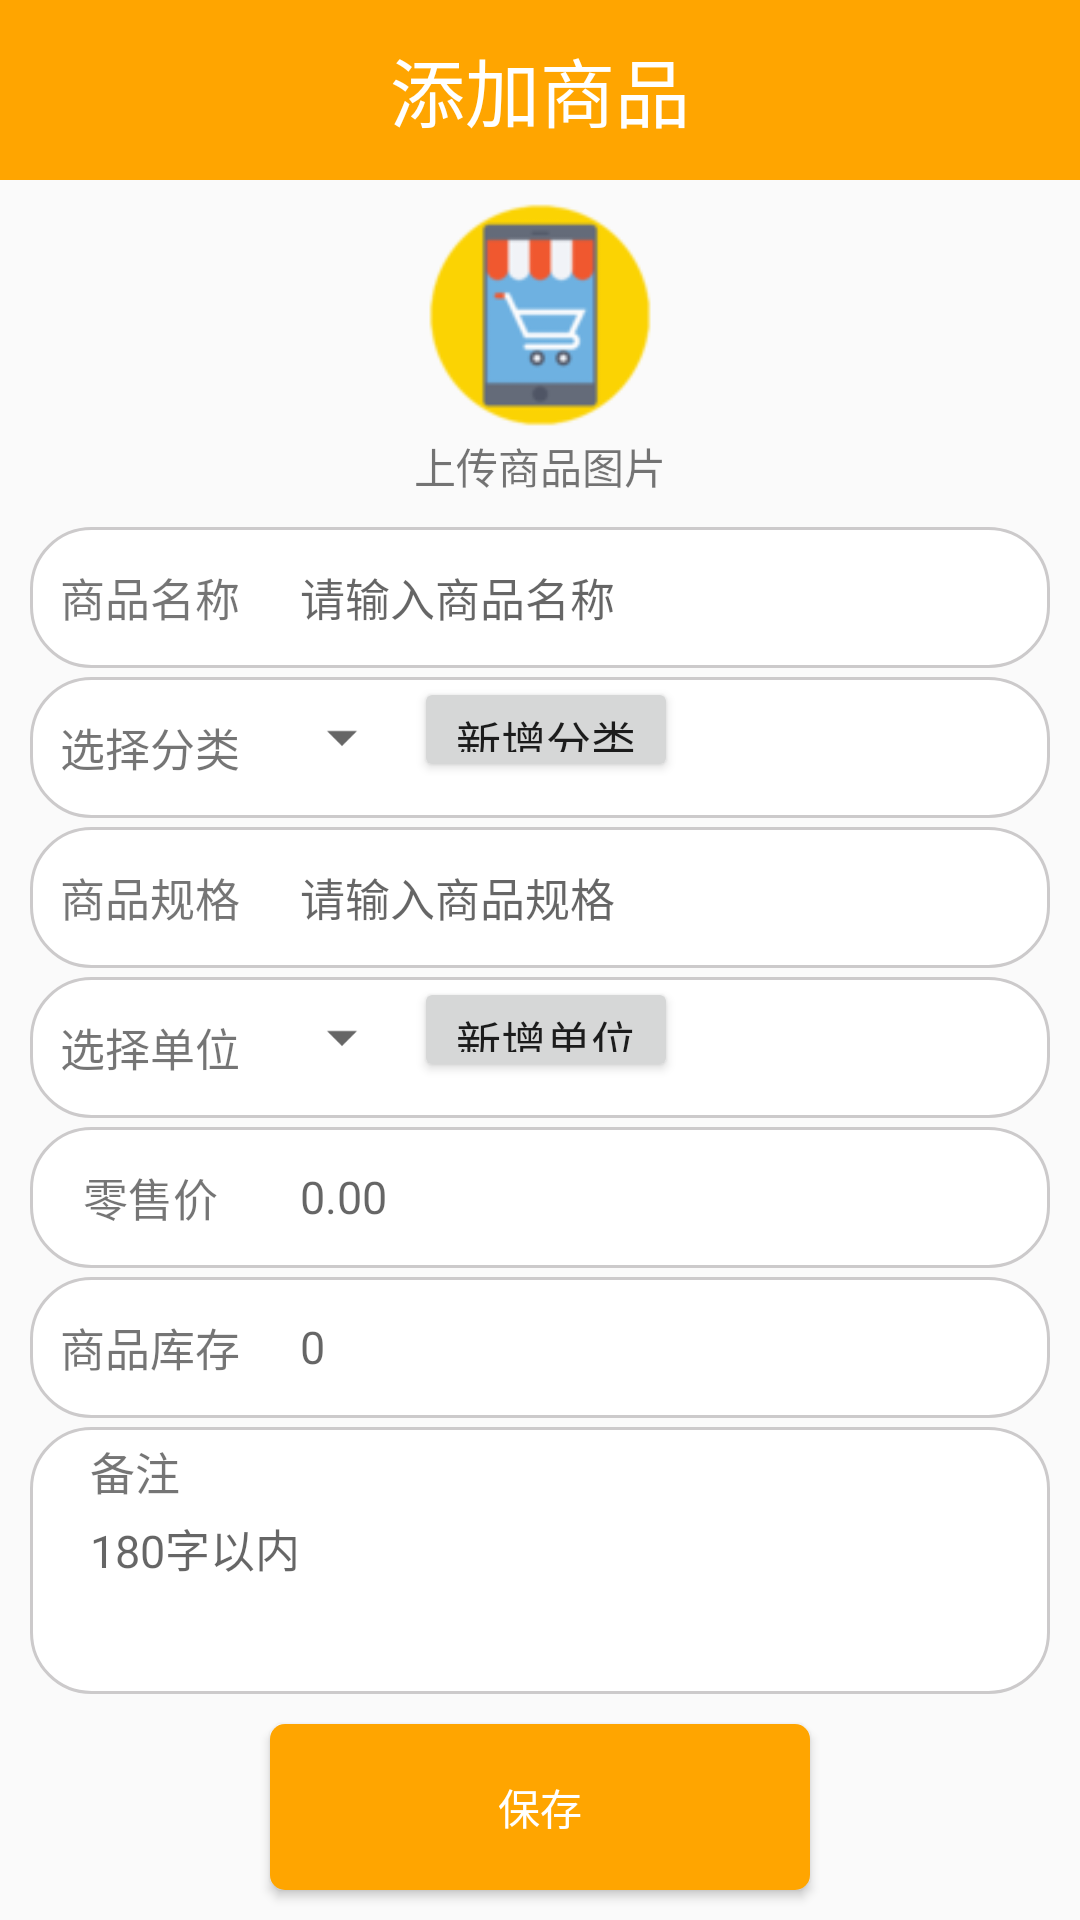

Screen size 1080×1920. Icon name, then its box in pixels as {"x1": x1, "y1": y1, "x2": x2, "y2": y2}:
shopping: {"x1": 429, "y1": 204, "x2": 651, "y2": 426}
